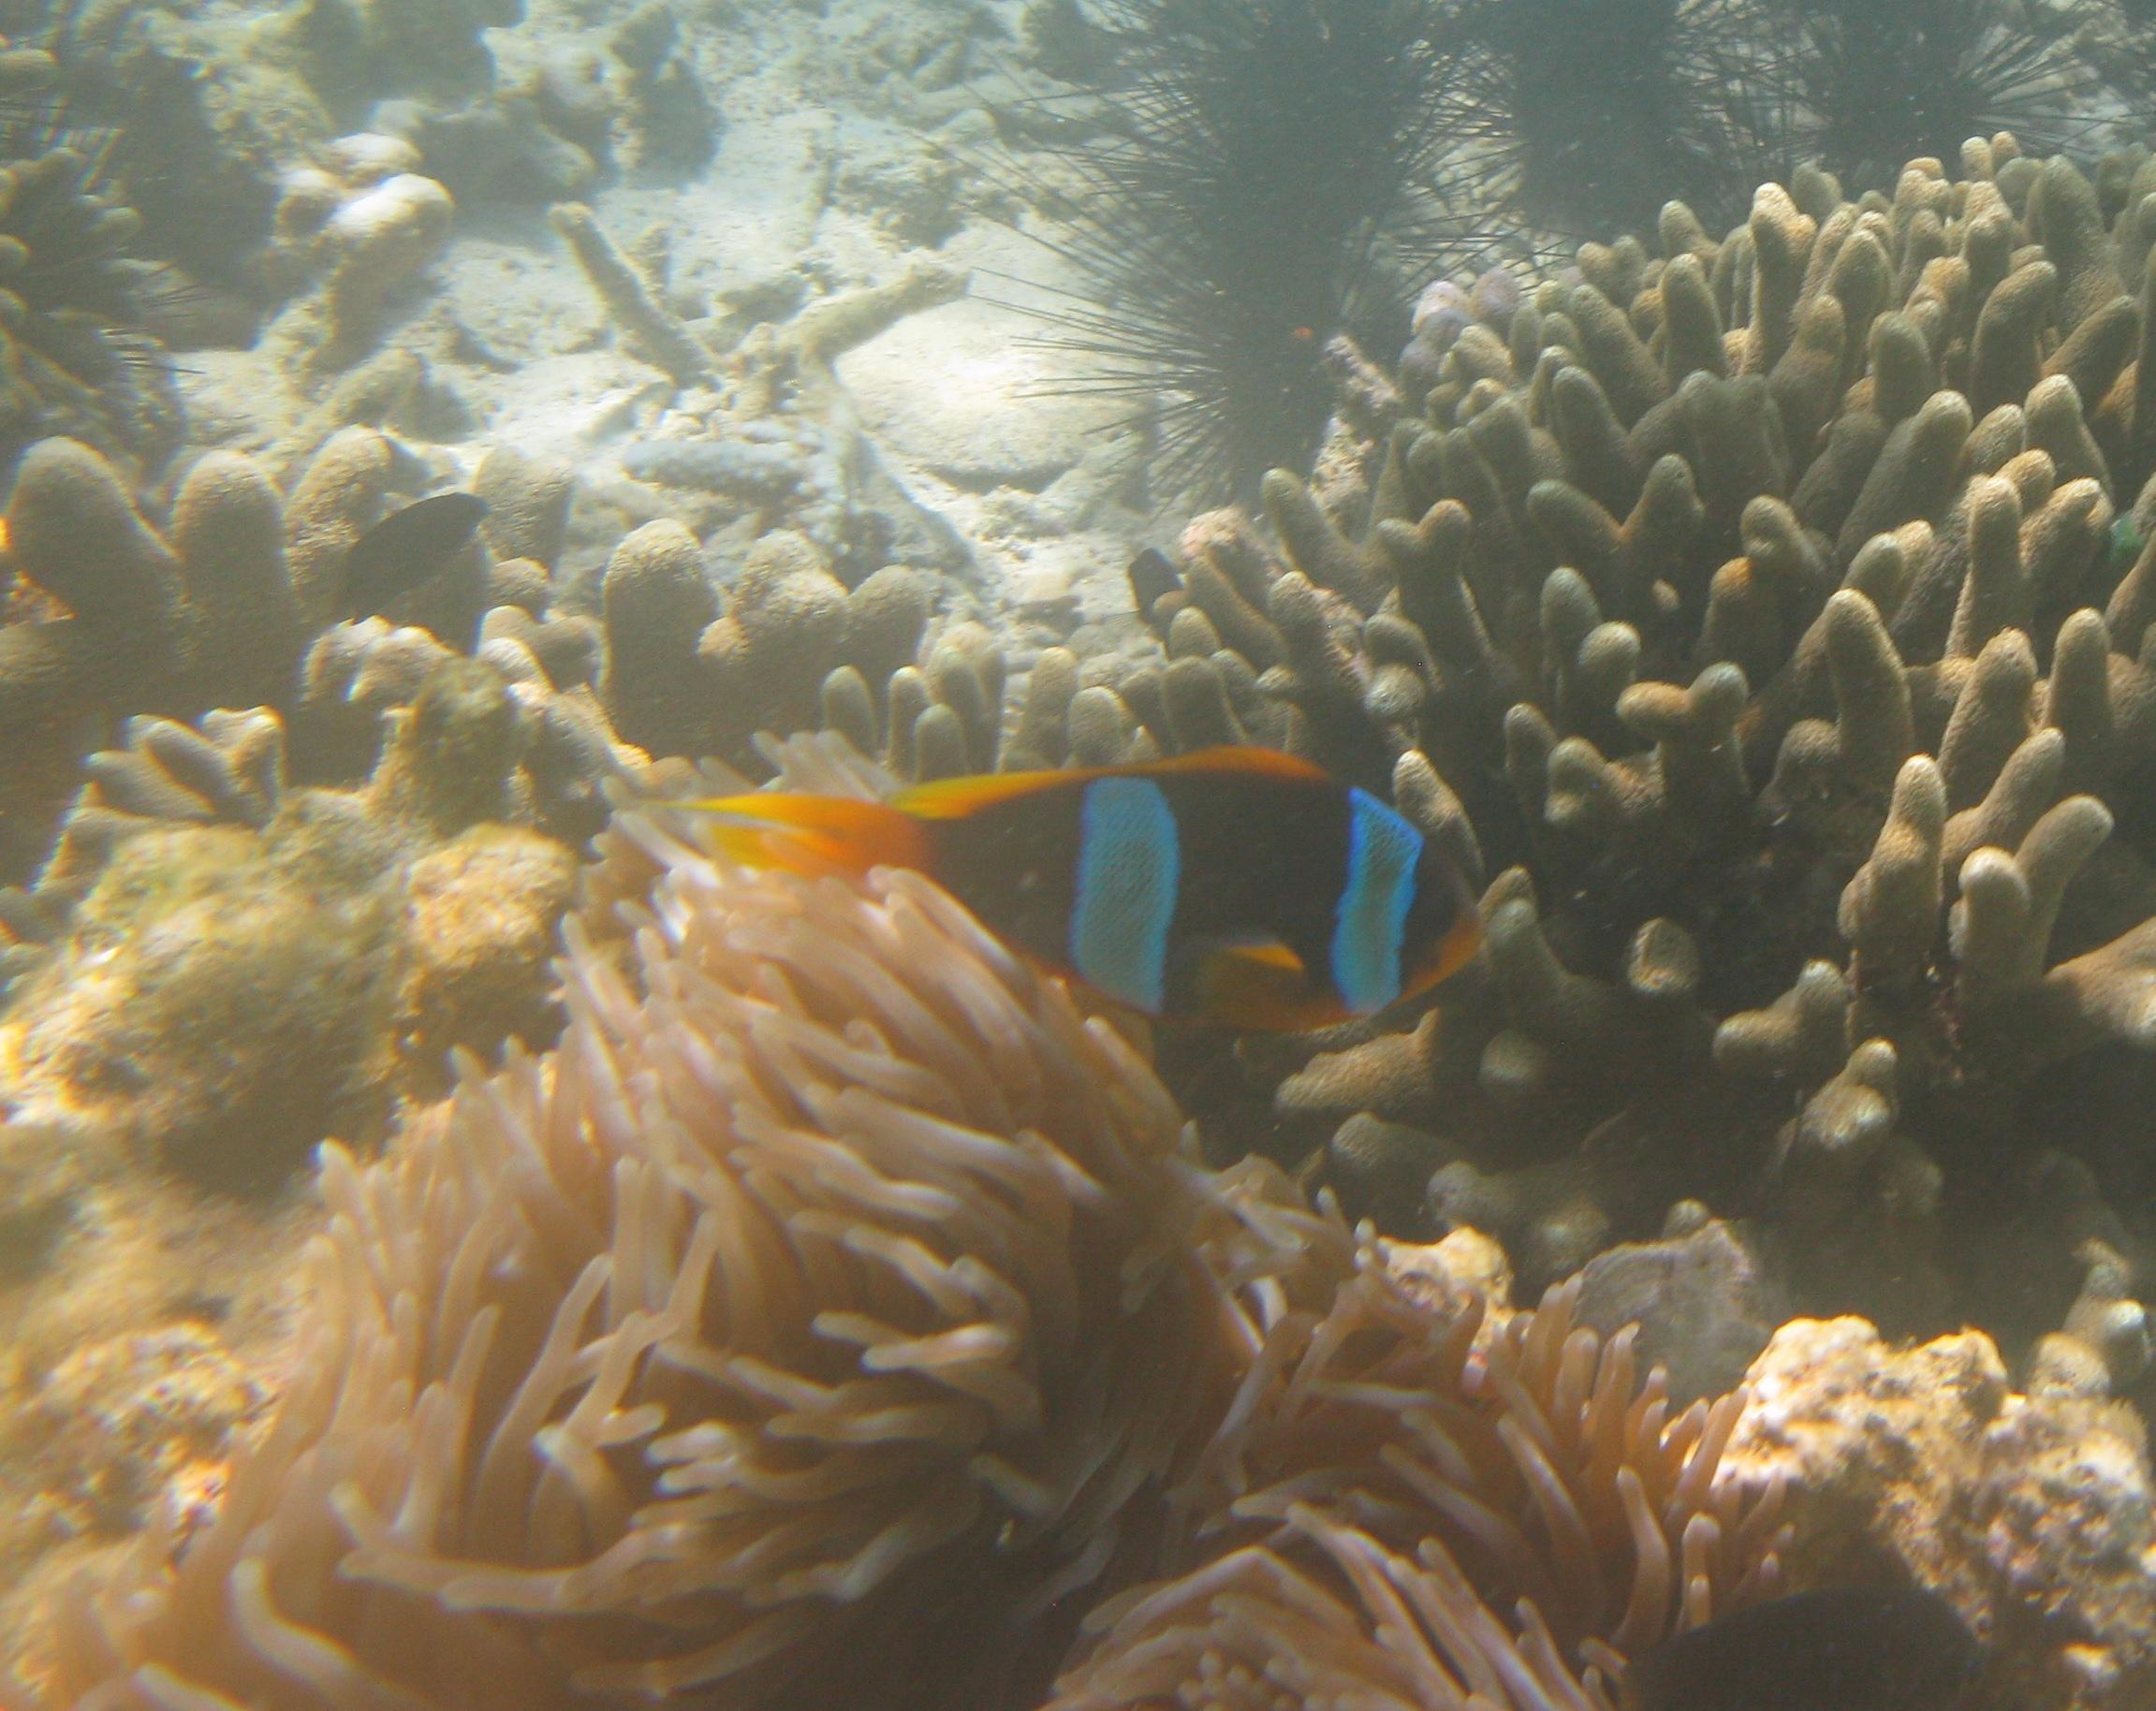Fish: (625, 562, 1515, 1139)
